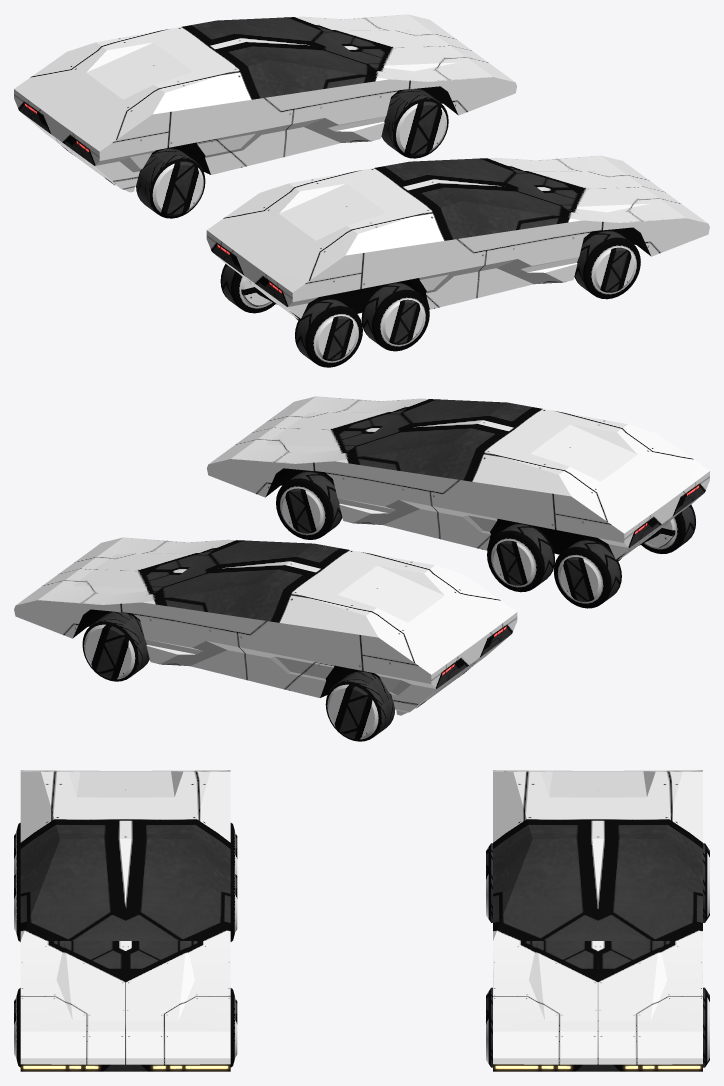
The model's file is free_-_sci-fi_lods_-_sf6wv01_sf4wv01_-_cc0.glb.
The picture shows the model from 3 angles, top to bottom: view 1: azimuth 30°, elevation 25°; view 2: azimuth 150°, elevation 25°; view 3: azimuth 270°, elevation 25°; orthographic projection. The views are drawn at different scales.
Parts seen in each view (by area): view 1: SF_WV_01, SF_6WV_01, Wheel_RR, Wheel_RR1, Wheel_RR2, Wheel_FR, Wheel_FR.001, Wheel_RL2; view 2: SF_WV_01, SF_6WV_01, Wheel_RL, Wheel_RL1, Wheel_RL2, Wheel_FL, Wheel_FL.001, Wheel_RR2; view 3: SF_6WV_01, SF_WV_01, Wheel_FL.001, Wheel_RL1, Wheel_RL, Wheel_FL, Wheel_FR, Wheel_RR, Wheel_FR.001, Wheel_RR1.
Part boxes in pixels (<box>): SF_WV_01: <box>14,14,516,192</box>; SF_6WV_01: <box>206,155,709,320</box>; Wheel_RR: <box>136,148,205,218</box>; Wheel_RR1: <box>361,282,429,351</box>; Wheel_RR2: <box>295,298,362,367</box>; Wheel_FR: <box>381,88,448,158</box>; Wheel_FR.001: <box>574,230,640,299</box>; Wheel_RL2: <box>220,264,275,313</box>; SF_WV_01: <box>14,537,517,715</box>; SF_6WV_01: <box>207,396,709,560</box>; Wheel_RL: <box>325,671,395,741</box>; Wheel_RL1: <box>487,523,554,592</box>; Wheel_RL2: <box>553,539,621,608</box>; Wheel_FL: <box>82,611,149,681</box>; Wheel_FL.001: <box>276,471,342,539</box>; Wheel_RR2: <box>641,504,695,553</box>; SF_6WV_01: <box>20,770,230,1071</box>; SF_WV_01: <box>493,770,702,1071</box>; Wheel_FL.001: <box>230,988,237,1067</box>; Wheel_RL1: <box>230,862,237,941</box>; Wheel_RL: <box>703,843,709,922</box>; Wheel_FL: <box>703,987,709,1067</box>; Wheel_FR: <box>486,987,492,1067</box>; Wheel_RR: <box>486,843,492,922</box>; Wheel_FR.001: <box>14,988,20,1067</box>; Wheel_RR1: <box>14,862,20,941</box>.
Size of what is drawn, in the model's own units: 5 by 1.36 by 5.89.
2 materials, 2 textured.
